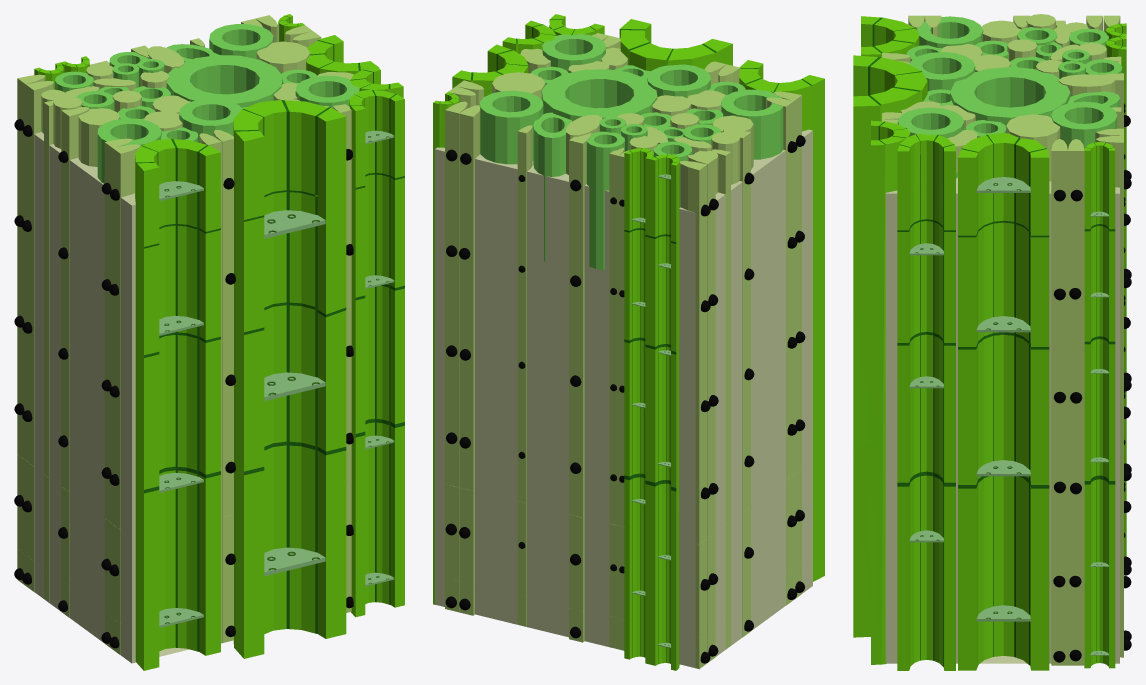
Rendered from phloem_edited.glb.
The picture shows the model from 3 angles, left to right: view 1: azimuth 30°, elevation 25°; view 2: azimuth 150°, elevation 25°; view 3: azimuth 270°, elevation 25°; orthographic projection. The views are drawn at different scales.
Parts seen in each view (by area): view 1: New_Game_Object_mat0_0.023, New_Game_Object_mat0_0.004, New_Game_Object_mat0_0.003, New_Game_Object_mat0_0.026, New_Game_Object_mat0_0.010, New_Game_Object_mat0_0.015, New_Game_Object_mat0_0.011, New_Game_Object_mat0_0.013, New_Game_Object_mat0_0.117, New_Game_Object_mat0_0.014, New_Game_Object_mat0_0.012, New_Game_Object_mat0_0.016 (+23 smaller); view 2: New_Game_Object_mat0_0.003, New_Game_Object_mat0_0.028, New_Game_Object_mat0_0.058, New_Game_Object_mat0_0.021, New_Game_Object_mat0_0.004, New_Game_Object_mat0_0.019, New_Game_Object_mat0_0.020, New_Game_Object_mat0_0.014, New_Game_Object_mat0_0.017, New_Game_Object_mat0_0.018, New_Game_Object_mat0_0.117, New_Game_Object_mat0_0.013 (+25 smaller); view 3: New_Game_Object_mat0_0.024, New_Game_Object_mat0_0.025, New_Game_Object_mat0_0.027, New_Game_Object_mat0_0.023, New_Game_Object_mat0_0.003, New_Game_Object_mat0_0.026, New_Game_Object_mat0_0.005, New_Game_Object_mat0_0.006, New_Game_Object_mat0_0.117, New_Game_Object_mat0_0.020, New_Game_Object_mat0_0.109, New_Game_Object_mat0_0.004 (+20 smaller).
Boxes of the visible parts, x1=… form: New_Game_Object_mat0_0.023: x1=233, y1=100, x2=346, y2=658; New_Game_Object_mat0_0.004: x1=135, y1=138, x2=220, y2=670; New_Game_Object_mat0_0.003: x1=34, y1=132, x2=189, y2=663; New_Game_Object_mat0_0.026: x1=349, y1=89, x2=404, y2=617; New_Game_Object_mat0_0.010: x1=213, y1=129, x2=233, y2=643; New_Game_Object_mat0_0.015: x1=25, y1=81, x2=53, y2=591; New_Game_Object_mat0_0.011: x1=112, y1=144, x2=140, y2=655; New_Game_Object_mat0_0.013: x1=61, y1=107, x2=89, y2=617; New_Game_Object_mat0_0.117: x1=166, y1=55, x2=282, y2=107; New_Game_Object_mat0_0.014: x1=17, y1=74, x2=45, y2=585; New_Game_Object_mat0_0.012: x1=104, y1=138, x2=132, y2=649; New_Game_Object_mat0_0.016: x1=44, y1=100, x2=54, y2=601; New_Game_Object_mat0_0.003: x1=435, y1=129, x2=812, y2=668; New_Game_Object_mat0_0.028: x1=650, y1=154, x2=679, y2=670; New_Game_Object_mat0_0.058: x1=624, y1=148, x2=653, y2=664; New_Game_Object_mat0_0.021: x1=459, y1=105, x2=480, y2=615; New_Game_Object_mat0_0.004: x1=739, y1=60, x2=824, y2=581; New_Game_Object_mat0_0.019: x1=569, y1=133, x2=591, y2=642; New_Game_Object_mat0_0.020: x1=445, y1=101, x2=467, y2=612; New_Game_Object_mat0_0.014: x1=679, y1=160, x2=707, y2=669; New_Game_Object_mat0_0.017: x1=517, y1=125, x2=532, y2=626; New_Game_Object_mat0_0.018: x1=609, y1=147, x2=624, y2=648; New_Game_Object_mat0_0.117: x1=541, y1=69, x2=657, y2=121; New_Game_Object_mat0_0.013: x1=723, y1=129, x2=750, y2=636; New_Game_Object_mat0_0.024: x1=958, y1=133, x2=1049, y2=670; New_Game_Object_mat0_0.025: x1=897, y1=133, x2=955, y2=670; New_Game_Object_mat0_0.027: x1=1084, y1=142, x2=1115, y2=668; New_Game_Object_mat0_0.023: x1=853, y1=55, x2=927, y2=637; New_Game_Object_mat0_0.003: x1=885, y1=177, x2=1119, y2=663; New_Game_Object_mat0_0.026: x1=871, y1=120, x2=910, y2=664; New_Game_Object_mat0_0.005: x1=1068, y1=139, x2=1084, y2=665; New_Game_Object_mat0_0.006: x1=1051, y1=139, x2=1067, y2=665; New_Game_Object_mat0_0.117: x1=950, y1=67, x2=1070, y2=126; New_Game_Object_mat0_0.020: x1=1095, y1=135, x2=1123, y2=657; New_Game_Object_mat0_0.109: x1=1051, y1=101, x2=1117, y2=149; New_Game_Object_mat0_0.004: x1=861, y1=16, x2=919, y2=57.
Size of the model in its own units: 1.47 by 2.5 by 1.19.
